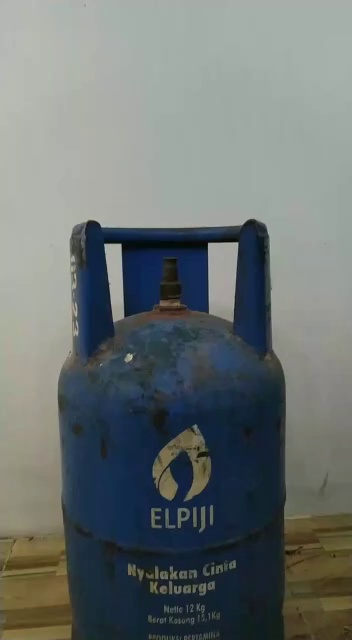blue_gas: (57, 219, 290, 640)
